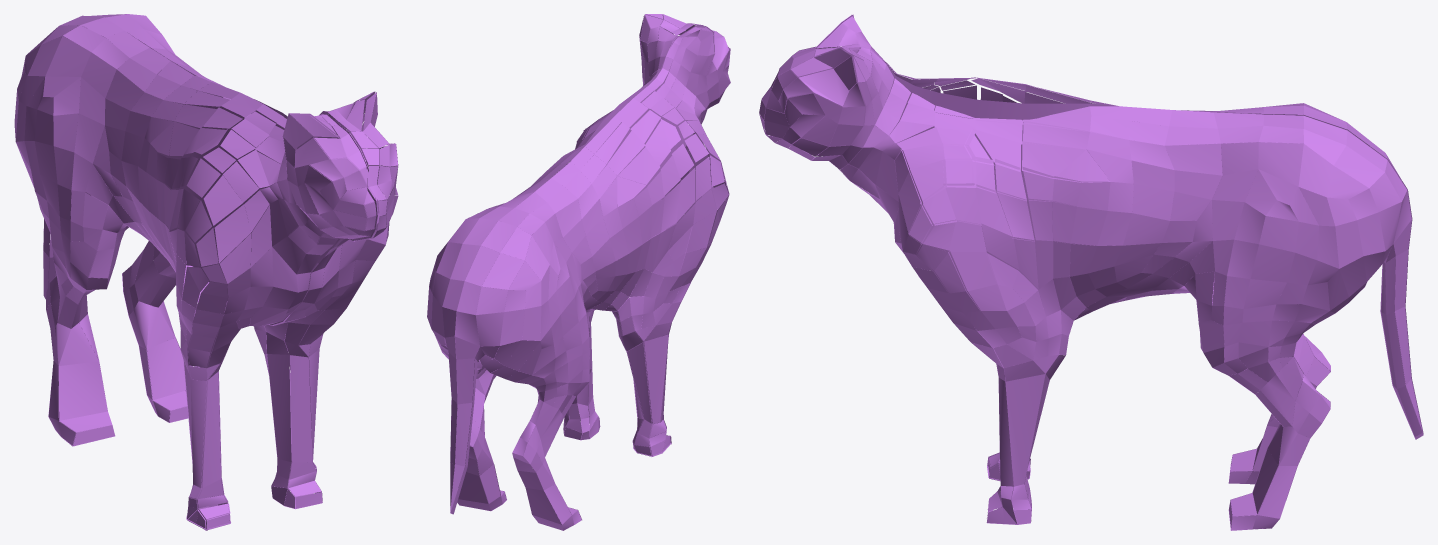
Rendered from uniform-recovery-surface.glb.
3 renders of one model, left to right at view 1: azimuth 30°, elevation 25°; view 2: azimuth 150°, elevation 25°; view 3: azimuth 270°, elevation 25°, orthographic. The views are drawn at different scales.
Parts seen in each view (by area): view 1: UNIFORM-INSET RECOVERY; view 2: UNIFORM-INSET RECOVERY; view 3: UNIFORM-INSET RECOVERY.
Boxes of the visible parts, left/top/right/bottom form: UNIFORM-INSET RECOVERY: left=14, top=14, right=398, bottom=530; UNIFORM-INSET RECOVERY: left=427, top=14, right=730, bottom=530; UNIFORM-INSET RECOVERY: left=759, top=14, right=1423, bottom=530.
Bounding box in the file's own units: 20.34 × 48.08 × 62.25.
